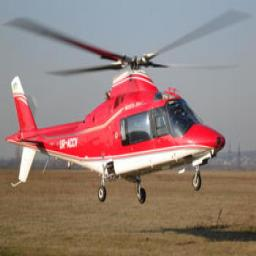helicopter: (7, 9, 232, 208)
